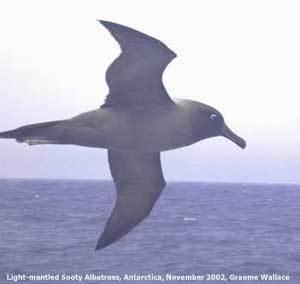bird: (1, 18, 249, 254)
